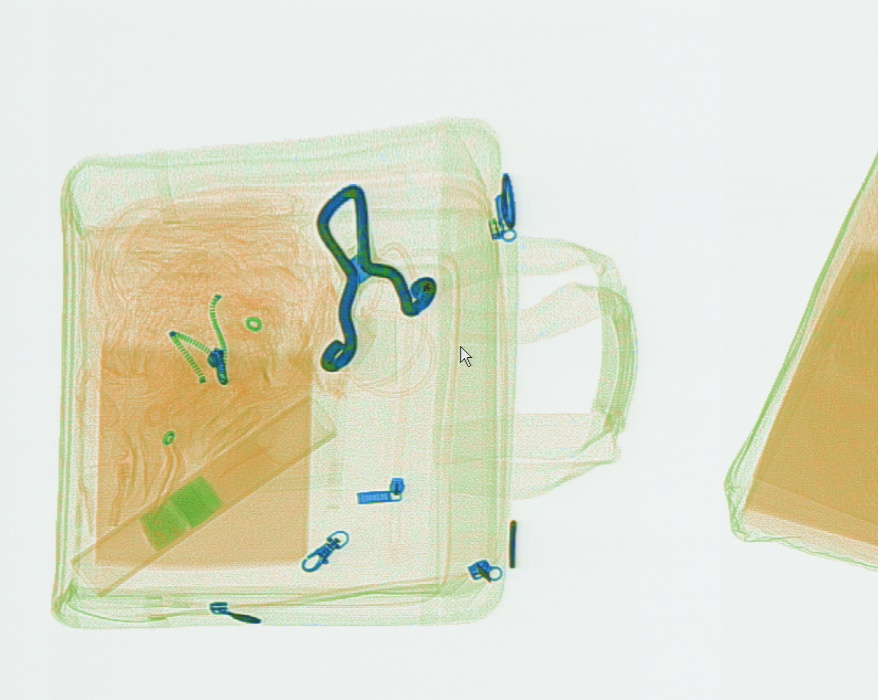firecrackers: (73, 396, 337, 598)
slingshot: (312, 182, 435, 372)
